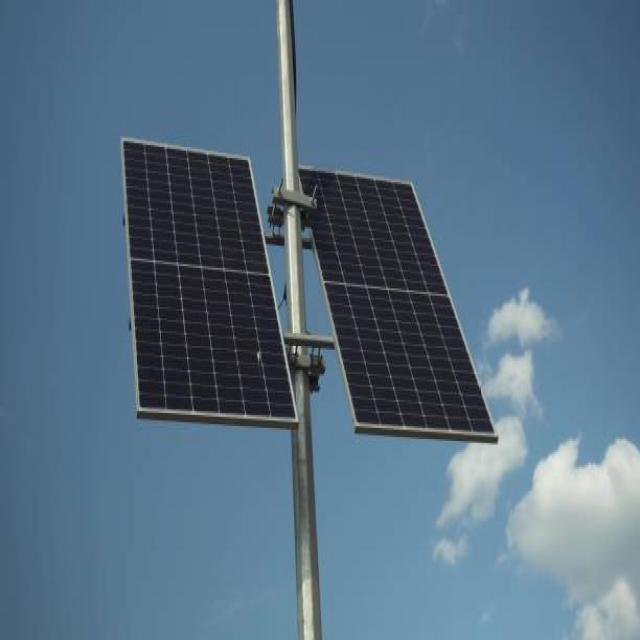no faulty: (303, 169, 495, 435), (124, 136, 299, 422)
